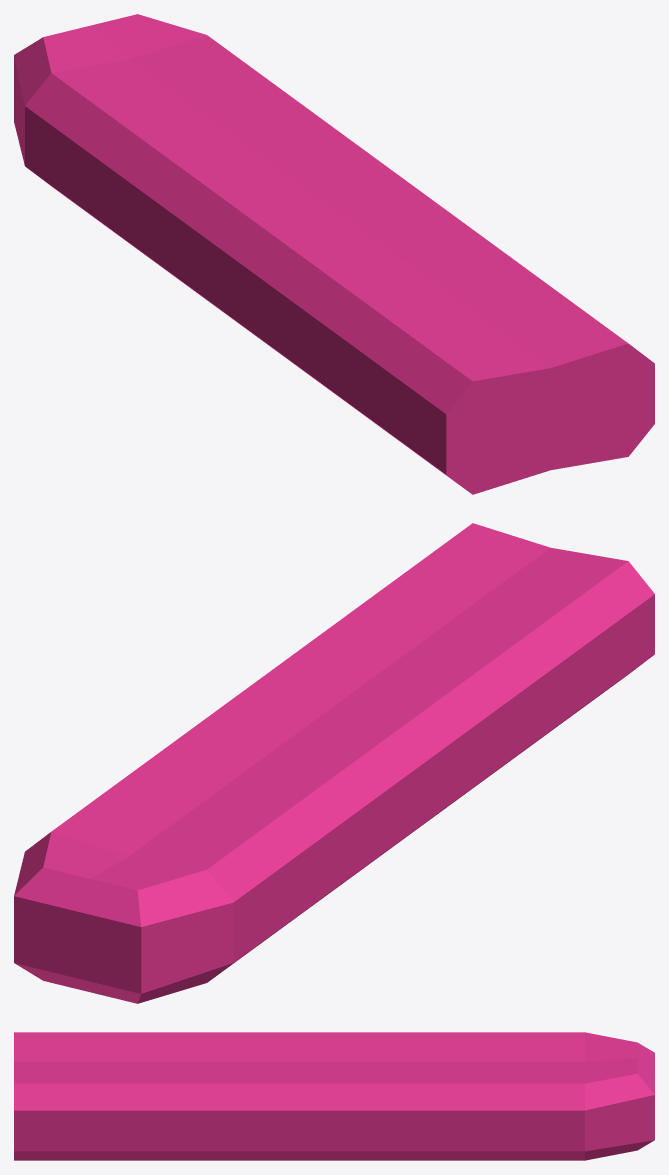
Rendered from toung.fbx.
3 renders of one model, top to bottom at view 1: azimuth 30°, elevation 25°; view 2: azimuth 150°, elevation 25°; view 3: azimuth 270°, elevation 25°, orthographic. The views are drawn at different scales.
Parts seen in each view (by area): view 1: Cube; view 2: Cube; view 3: Cube.
Part boxes in pixels (x1=…): Cube: x1=14, y1=14, x2=654, y2=494; Cube: x1=14, y1=523, x2=654, y2=1003; Cube: x1=14, y1=1032, x2=654, y2=1160.
Size of the model in its own units: 57.16 by 29.69 by 225.
